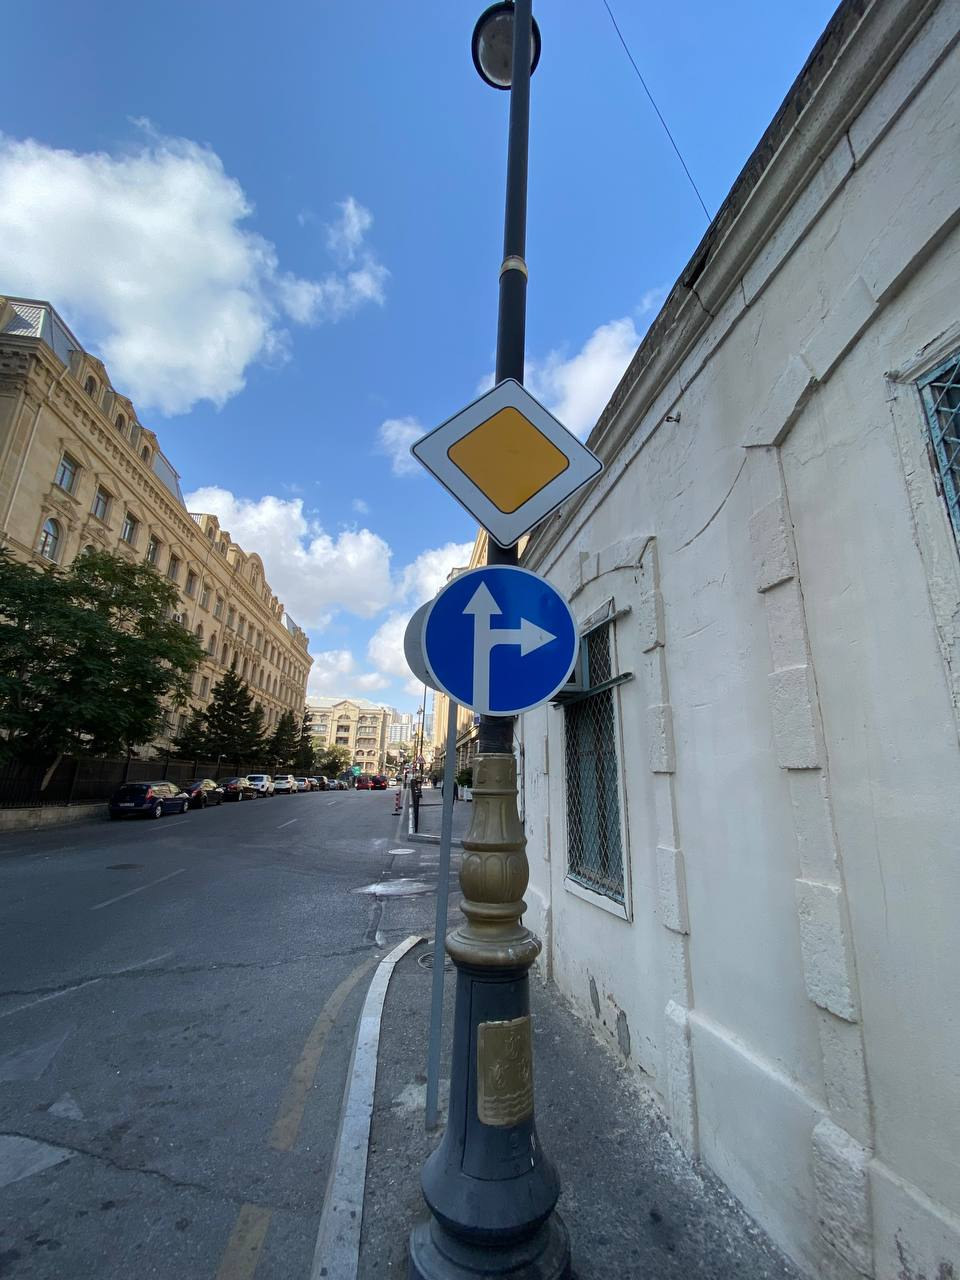Main Road: (409, 378, 604, 550)
Straight or Right: (421, 564, 579, 716)
